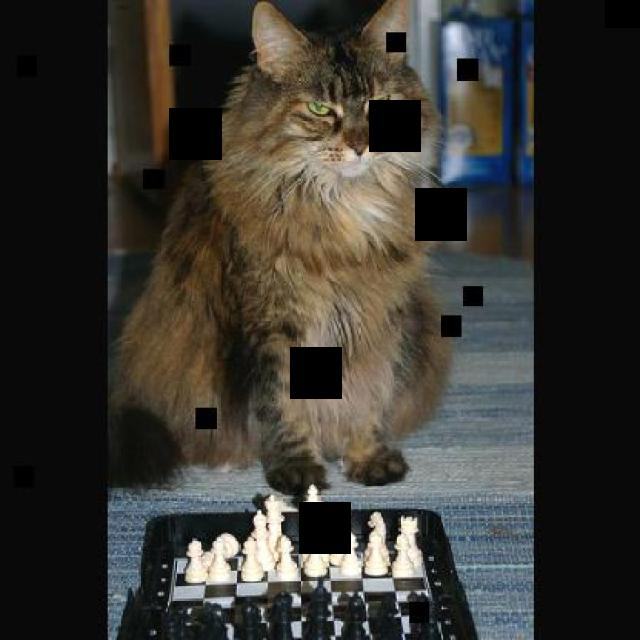unauthorized: (108, 0, 454, 497)
